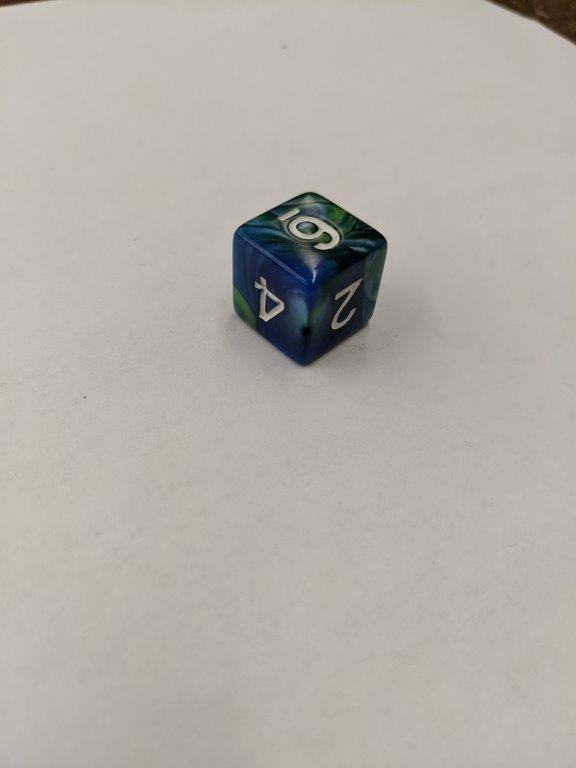d6-6: (229, 194, 391, 367)
